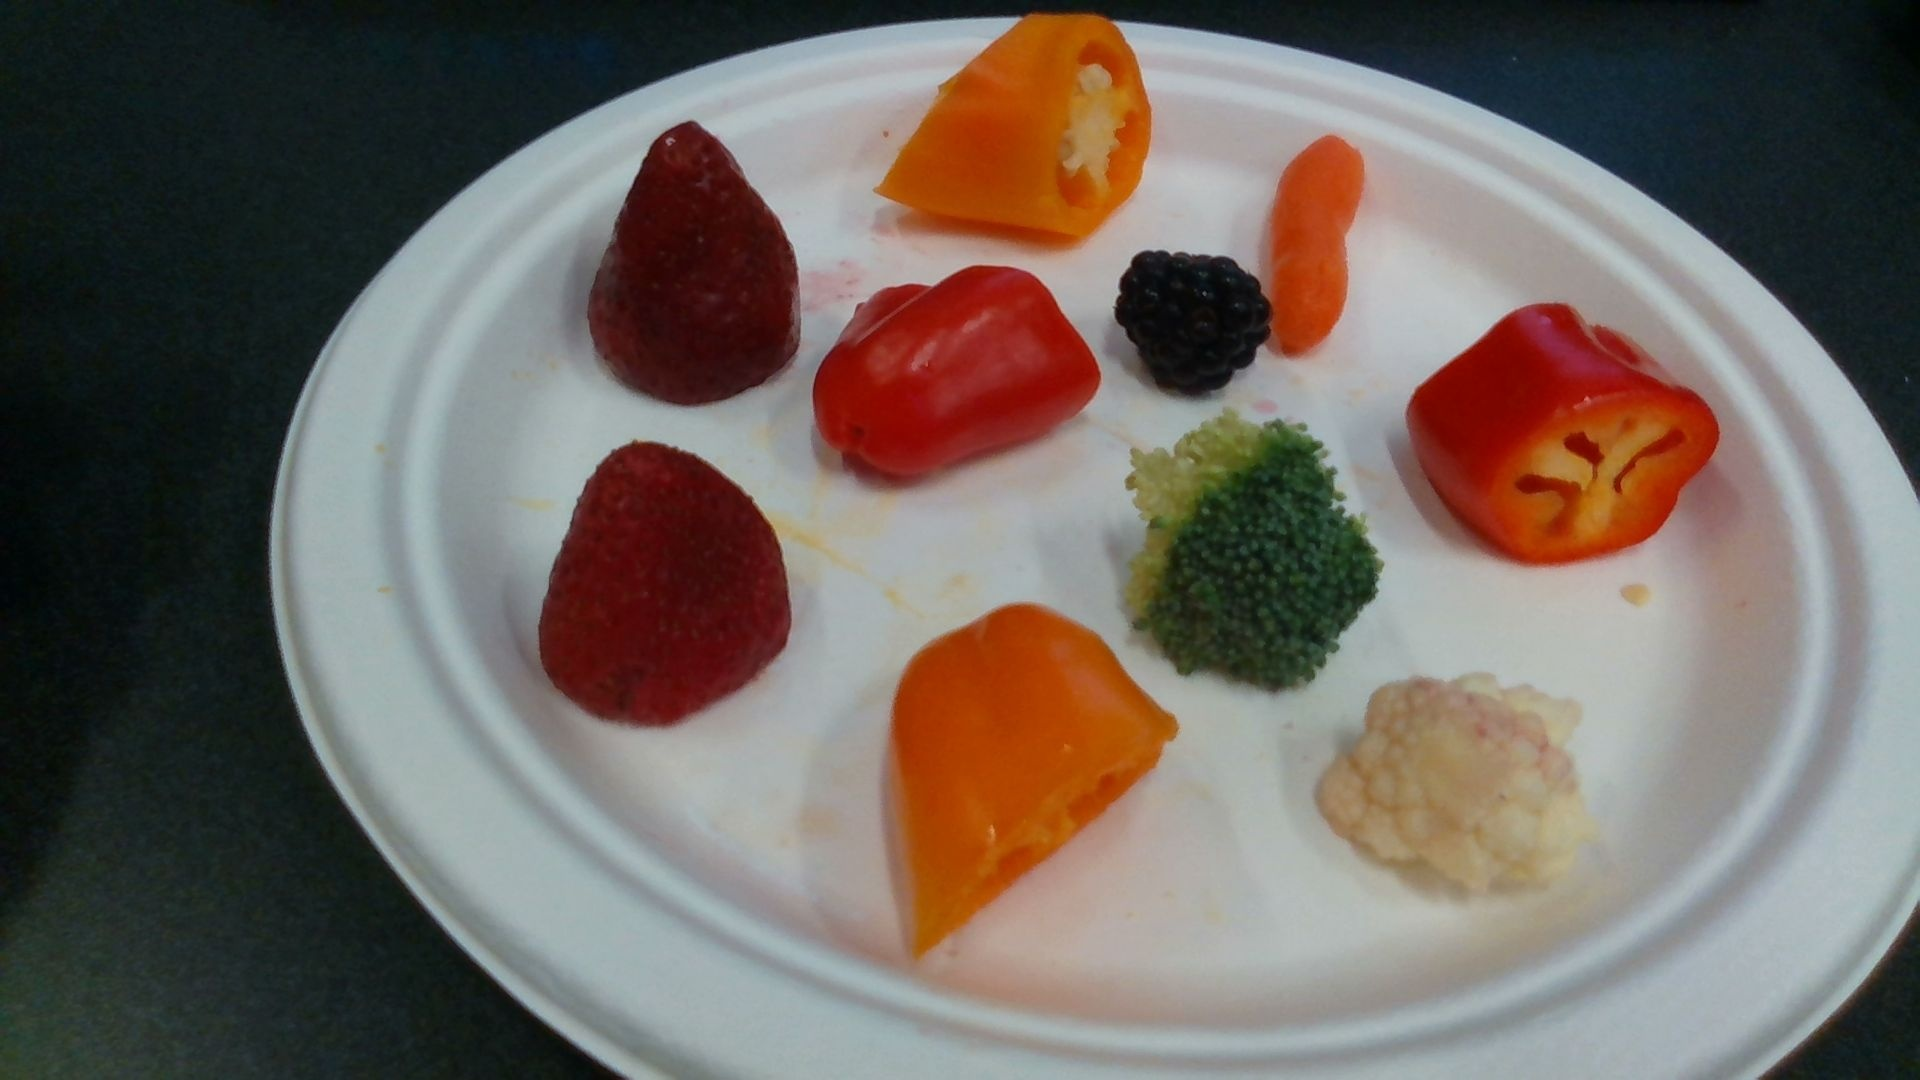bell_pepper: (894, 605, 1170, 960), (1408, 305, 1720, 564), (876, 1, 1153, 236), (815, 268, 1097, 473)
blackberry: (1116, 251, 1269, 405)
broccoli: (1129, 410, 1379, 698)
carrot: (1273, 140, 1362, 355)
cauliflower: (1317, 675, 1580, 891)
strawberry: (541, 446, 793, 727), (589, 125, 800, 406)
